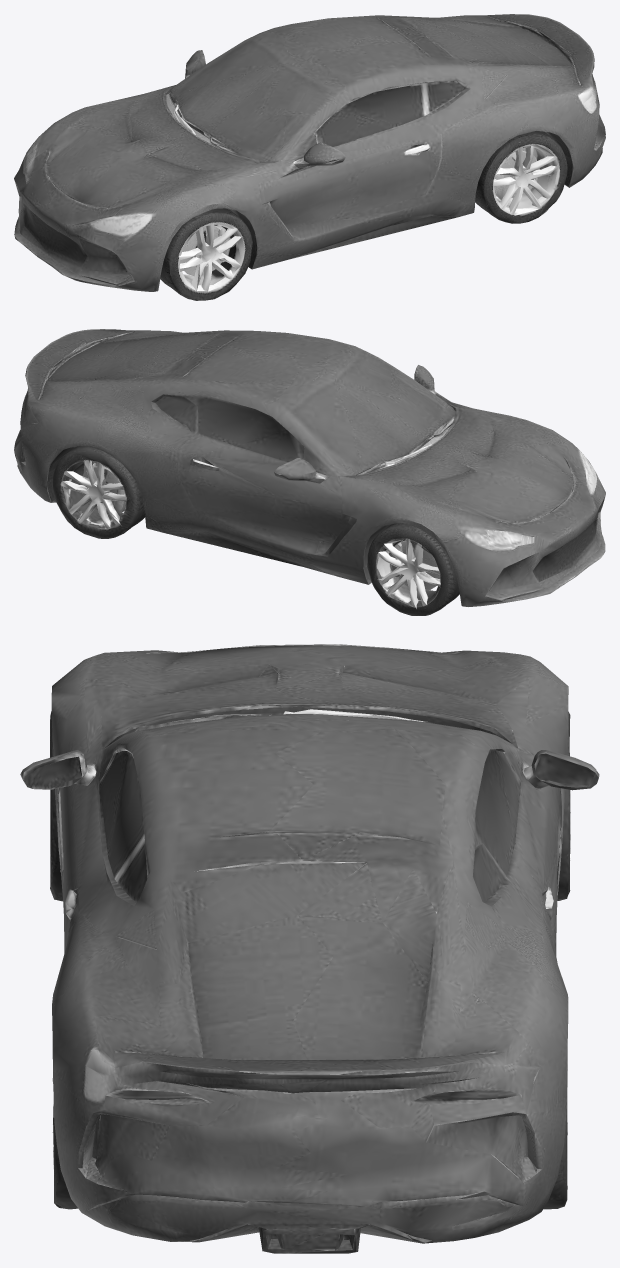
File: car_sports.glb
The picture shows the model from 3 angles, top to bottom: view 1: azimuth 30°, elevation 25°; view 2: azimuth 150°, elevation 25°; view 3: azimuth 270°, elevation 25°; orthographic projection. The views are drawn at different scales.
Size of the model in its own units: 1.9 by 0.5498 by 0.8878.
Materials: 1 (1 with a texture image).
